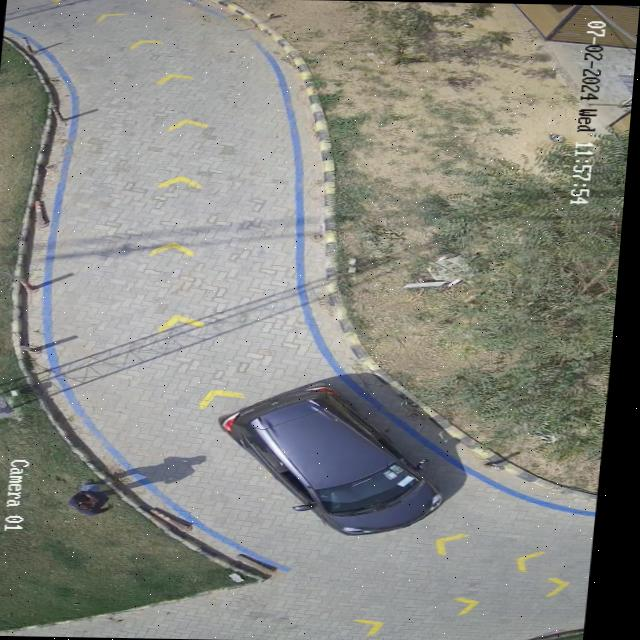car: (225, 382, 452, 535)
